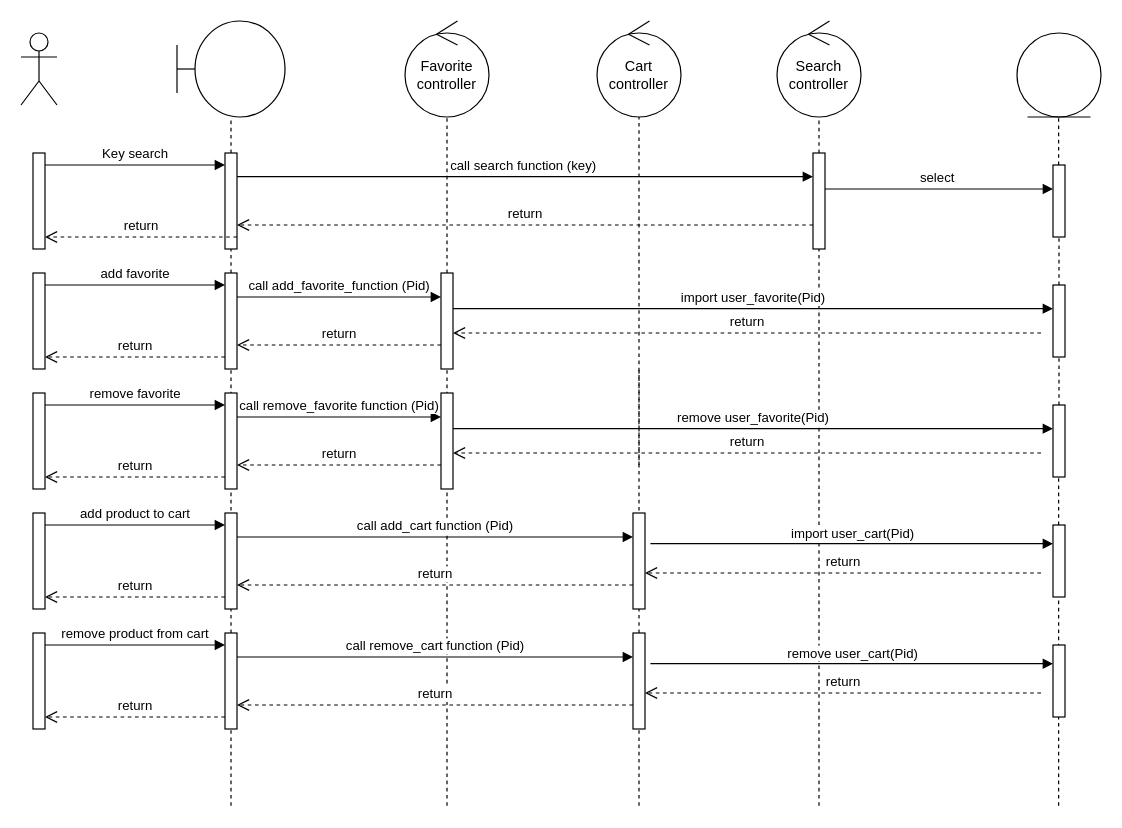
This 1122x828 diagram has some shape labels left out. The centre of each missing label's shape, as x and y in pixels:
"Actor" goes at (38,68).
"Model" goes at (1058,74).
